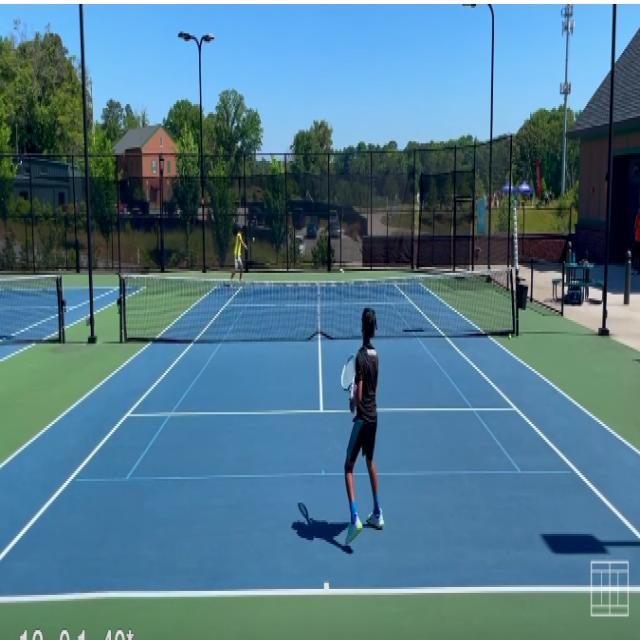ball: (508, 332, 512, 340), (253, 237, 255, 242)
